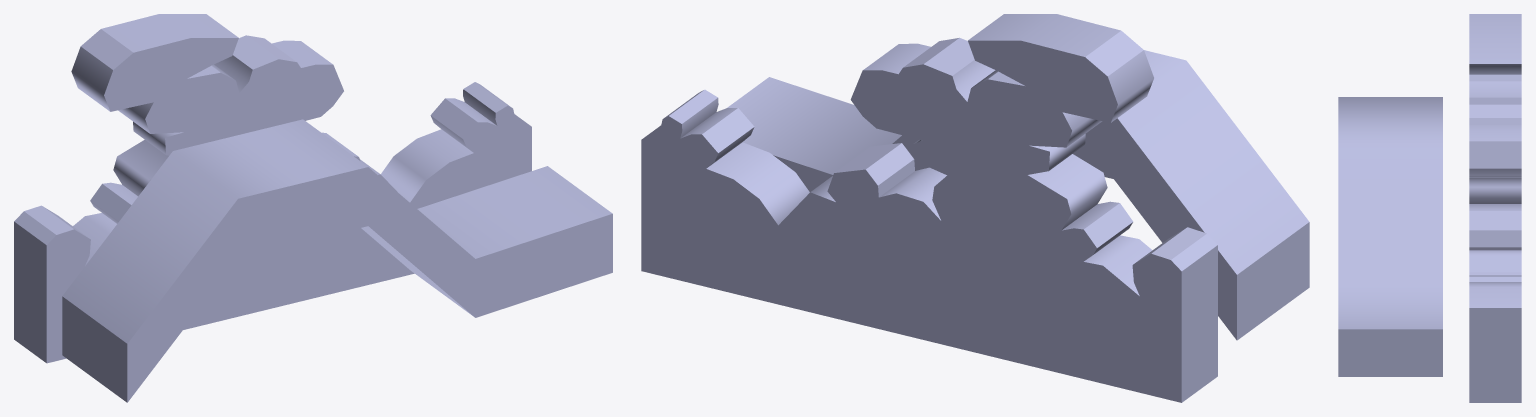
File: PlateauLeft.fbx
3 views of the same model, side by side, from view 1: azimuth 30°, elevation 25°; view 2: azimuth 150°, elevation 25°; view 3: azimuth 270°, elevation 25° (orthographic). The views are drawn at different scales.
Visible parts, largest first — view 1: PlateauLeftTrack, PlateauLeft; view 2: PlateauLeft, PlateauLeftTrack; view 3: PlateauLeftTrack, PlateauLeft.
Part boxes in pixels (x1=…): PlateauLeftTrack: x1=62, y1=119, x2=612, y2=402; PlateauLeft: x1=14, y1=14, x2=531, y2=363; PlateauLeft: x1=641, y1=14, x2=1217, y2=402; PlateauLeftTrack: x1=727, y1=50, x2=1309, y2=340; PlateauLeftTrack: x1=1338, y1=97, x2=1442, y2=376; PlateauLeft: x1=1469, y1=14, x2=1521, y2=402.
Bounding box in the file's own units: 43.07 × 24.58 × 17.5.
